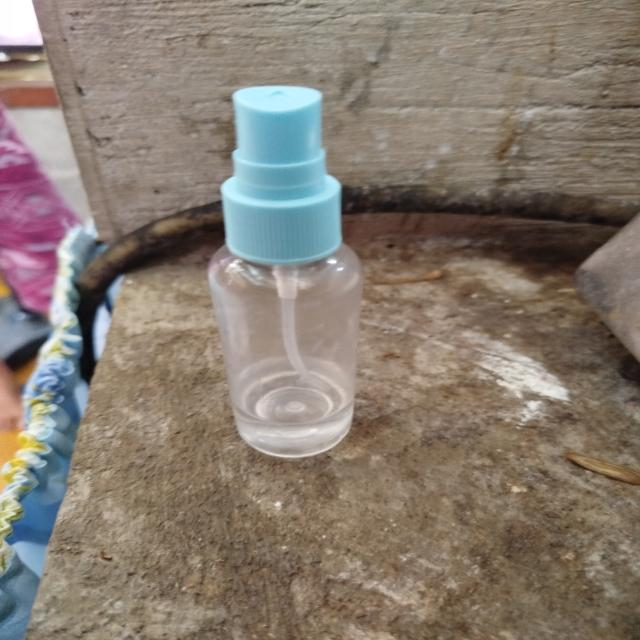plastic: (179, 59, 404, 473)
